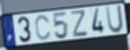3: (17, 15, 33, 45)
4: (91, 7, 106, 37)
5: (51, 10, 70, 40)
C: (34, 14, 52, 42)
U: (104, 4, 125, 36)
Z: (70, 9, 89, 38)
